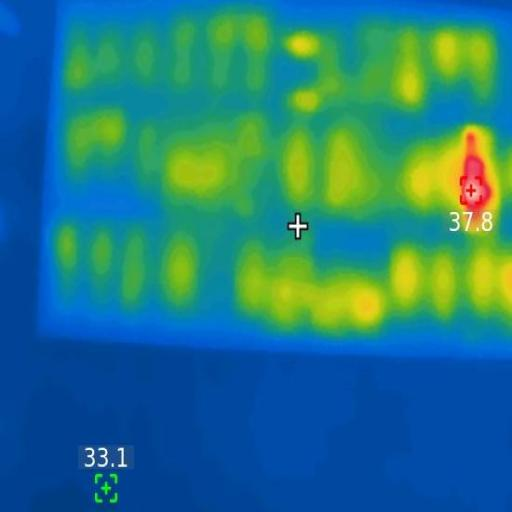hotspot: (466, 158, 486, 212)
